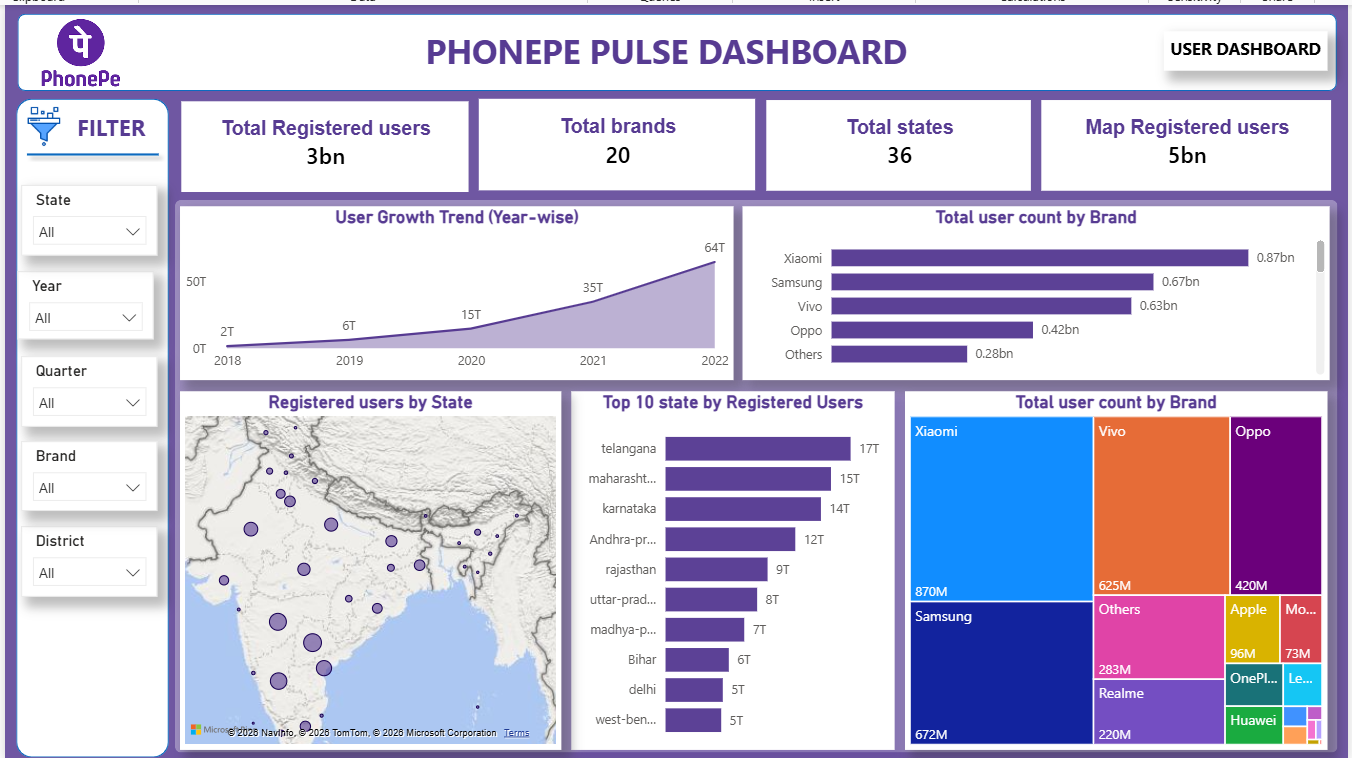

Layout of this report page (visuals, bound fields, positions):
{"tool":"powerbi","page":{"name":"User Analysis Dashboard","canvas":[1280,720],"ordinal":1},"visuals":[{"type":"shape","box":[12.5,8.7,1256.5,73.6],"z":0},{"type":"shape","box":[10.7,89.3,145.2,627.4],"z":1000},{"type":"shape","box":[161.9,185.7,1107.1,526.2],"z":2000},{"type":"lineChart","title":"User Growth Trend (Year-wise)","fields":{"Y":["aggregated_transaction.Total Transaction amount"],"Category":["aggregated_transaction.Year"]},"box":[166.7,191.7,527.4,165.5],"z":3000},{"type":"clusteredBarChart","fields":{"Category":["aggregated_user.Brand"],"Y":["aggregated_user.Total user count"]},"box":[702.4,191.7,559.5,165.5],"z":4000},{"type":"clusteredBarChart","fields":{"Category":["aggregated_transaction.State"],"Y":["aggregated_transaction.Total Transaction amount"]},"box":[539.3,367.9,308.3,341.7],"z":5000},{"type":"map","fields":{"Category":["map_transaction.State"],"Size":["map_transaction.Map Transaction amount"]},"box":[166.7,367.9,363.1,341.7],"z":6000},{"type":"image","box":[25,10.7,94,69],"z":7000},{"type":"treemap","fields":{"Group":["aggregated_user.Brand"],"Values":["aggregated_user.Total user count"]},"box":[857.1,367.9,402.4,341.7],"z":8000},{"type":"slicer","fields":{"Values":["aggregated_transaction.Year"]},"box":[12.5,253.3,129.8,64.9],"z":9000},{"type":"slicer","fields":{"Values":["aggregated_transaction.Quarter"]},"box":[15,334.4,129.8,67.4],"z":10000},{"type":"slicer","fields":{"Values":["aggregated_transaction.State"]},"box":[15,171,129.8,67.4],"z":11000},{"type":"textbox","box":[383.3,16.7,492.9,54.8],"z":12000},{"type":"slicer","fields":{"Values":["top_transaction.District"]},"box":[15,496.6,129.8,67.4],"z":13000},{"type":"slicer","fields":{"Values":["aggregated_user.Brand"]},"box":[15,415.5,129.8,66.1],"z":14000},{"type":"cardVisual","fields":{"Data":["top_user.Total Registered users"]},"box":[163.5,87.3,283.3,96.1],"z":15000},{"type":"cardVisual","fields":{"Data":["aggregated_user.Total brands"]},"box":[446.7,84.9,273.3,97.3],"z":16000},{"type":"cardVisual","fields":{"Data":["map_user.Map Registered users"]},"box":[982,86.1,287,96.1],"z":17000},{"type":"cardVisual","fields":{"Data":["aggregated_user.Total states"]},"box":[720,86.1,262,96.1],"z":18000},{"type":"textbox","box":[58.6,96.1,86.1,41.2],"z":19000},{"type":"shape","box":[12.5,133.5,143.5,16.2],"z":20000},{"type":"image","box":[15,96.1,43.7,38.7],"z":21000},{"type":"textbox","box":[1103.1,25,156,37.4],"z":22000}]}

Visuals, with their boxes on the page's 1280x720 design canvas (x1, y1, x2, y2). These are canvas units, not pixel positions in the 1352x758 screenshot, which may show the page scaled, cropped or inside an application window:
shape: x1=12, y1=9, x2=1269, y2=82
shape: x1=11, y1=89, x2=156, y2=717
shape: x1=162, y1=186, x2=1269, y2=712
"User Growth Trend (Year-wise)" lineChart: x1=167, y1=192, x2=694, y2=357
clusteredBarChart - aggregated_user.Brand x aggregated_user.Total user count: x1=702, y1=192, x2=1262, y2=357
clusteredBarChart - aggregated_transaction.State x aggregated_transaction.Total Transaction amount: x1=539, y1=368, x2=848, y2=710
map - map_transaction.State x map_transaction.Map Transaction amount: x1=167, y1=368, x2=530, y2=710
image: x1=25, y1=11, x2=119, y2=80
treemap - aggregated_user.Brand x aggregated_user.Total user count: x1=857, y1=368, x2=1260, y2=710
slicer - aggregated_transaction.Year: x1=12, y1=253, x2=142, y2=318
slicer - aggregated_transaction.Quarter: x1=15, y1=334, x2=145, y2=402
slicer - aggregated_transaction.State: x1=15, y1=171, x2=145, y2=238
textbox: x1=383, y1=17, x2=876, y2=72
slicer - top_transaction.District: x1=15, y1=497, x2=145, y2=564
slicer - aggregated_user.Brand: x1=15, y1=416, x2=145, y2=482
cardVisual - top_user.Total Registered users: x1=164, y1=87, x2=447, y2=183
cardVisual - aggregated_user.Total brands: x1=447, y1=85, x2=720, y2=182
cardVisual - map_user.Map Registered users: x1=982, y1=86, x2=1269, y2=182
cardVisual - aggregated_user.Total states: x1=720, y1=86, x2=982, y2=182
textbox: x1=59, y1=96, x2=145, y2=137
shape: x1=12, y1=134, x2=156, y2=150
image: x1=15, y1=96, x2=59, y2=135
textbox: x1=1103, y1=25, x2=1259, y2=62
